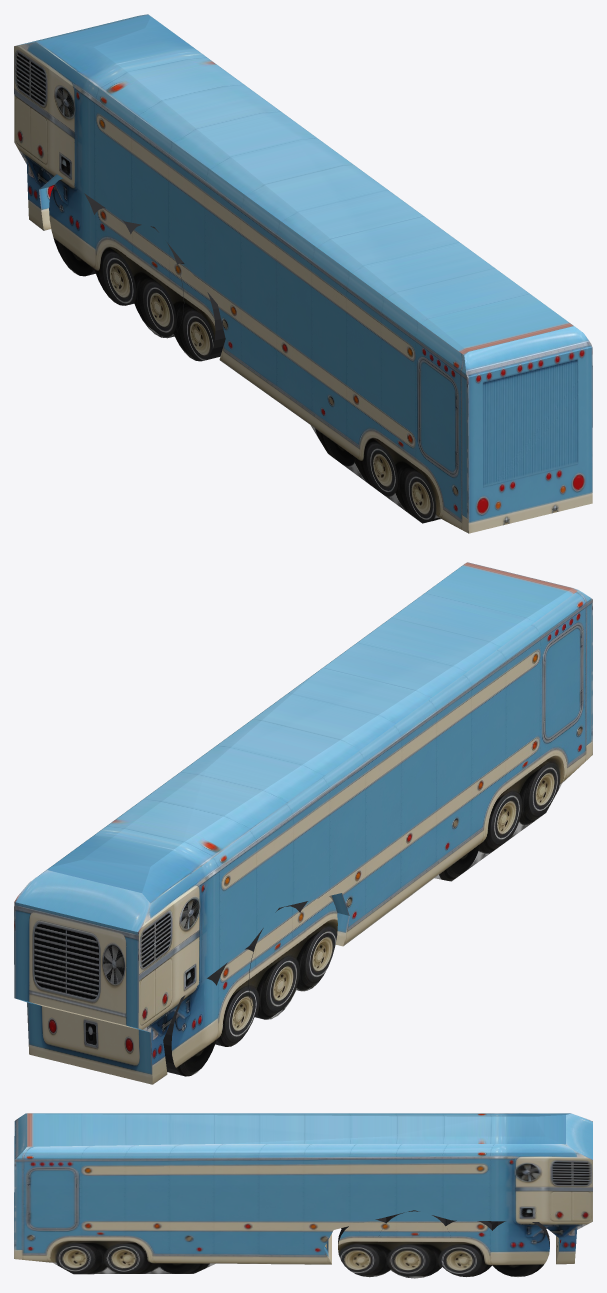
File: semi_trailer_reefer.glb
3 views of the same model, one above another, from view 1: azimuth 30°, elevation 25°; view 2: azimuth 150°, elevation 25°; view 3: azimuth 270°, elevation 25° (orthographic). The views are drawn at different scales.
Visible parts, largest first — view 1: semi_trailer_reefer, wheel_M2L, wheel_FL, wheel_BL, wheel_M1L; view 2: semi_trailer_reefer, wheel_M2L, wheel_FL, wheel_M1L, wheel_BL; view 3: semi_trailer_reefer, wheel_M2R, wheel_FR, wheel_M1R, wheel_BR.
Part boxes in pixels (x1=…): semi_trailer_reefer: x1=14, y1=14, x2=592, y2=533; wheel_M2L: x1=125, y1=224, x2=184, y2=338; wheel_FL: x1=49, y1=178, x2=104, y2=276; wheel_BL: x1=174, y1=262, x2=225, y2=361; wheel_M1L: x1=89, y1=207, x2=141, y2=305; semi_trailer_reefer: x1=14, y1=562, x2=592, y2=1084; wheel_M2L: x1=246, y1=905, x2=306, y2=1019; wheel_FL: x1=163, y1=978, x2=221, y2=1076; wheel_M1L: x1=207, y1=948, x2=255, y2=1046; wheel_BL: x1=289, y1=896, x2=337, y2=991; semi_trailer_reefer: x1=14, y1=1113, x2=592, y2=1274; wheel_M2R: x1=377, y1=1210, x2=451, y2=1278; wheel_FR: x1=486, y1=1221, x2=549, y2=1276; wheel_M1R: x1=443, y1=1219, x2=498, y2=1277; wheel_BR: x1=338, y1=1217, x2=390, y2=1277.
Size of the model in its own units: 2.57 by 4.11 by 16.13.
3 materials, 1 textured.
